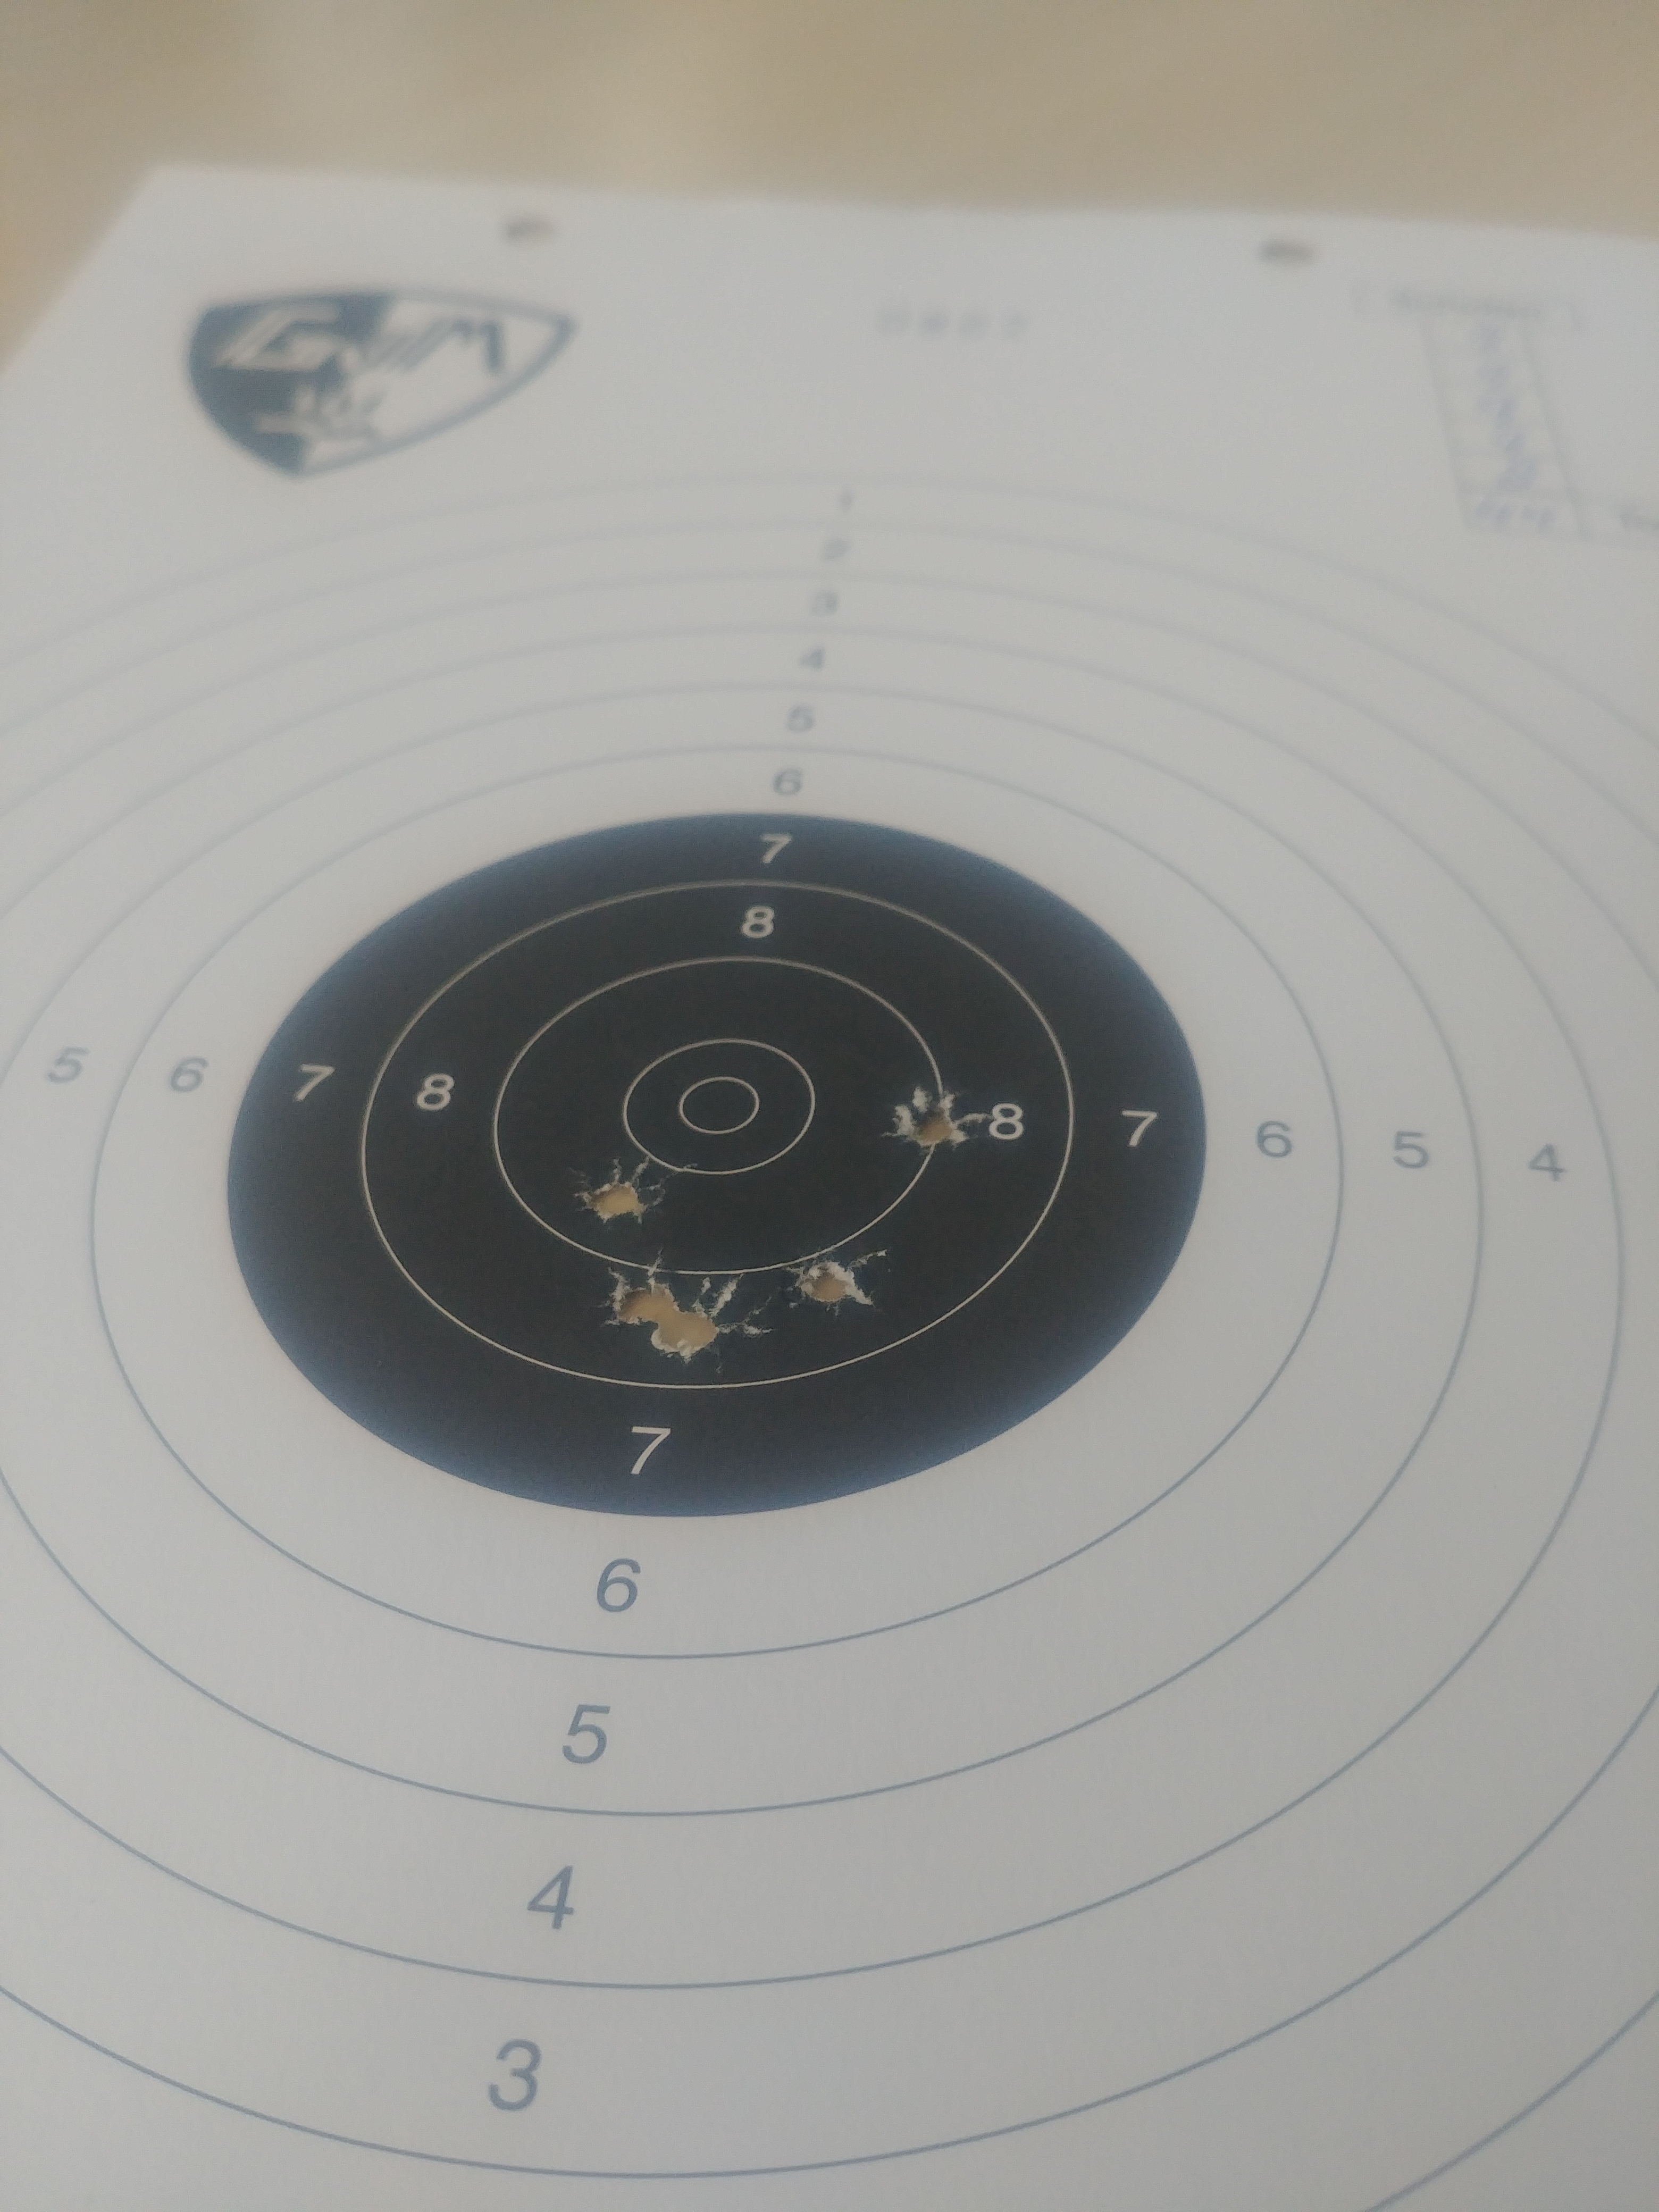center: (221, 808, 1211, 1524)
out: (14, 470, 1659, 2212)
shot: (782, 1240, 884, 1317), (648, 1289, 744, 1366), (882, 1083, 972, 1151), (605, 1264, 683, 1338), (572, 1160, 655, 1226)
target: (622, 1038, 816, 1176)
